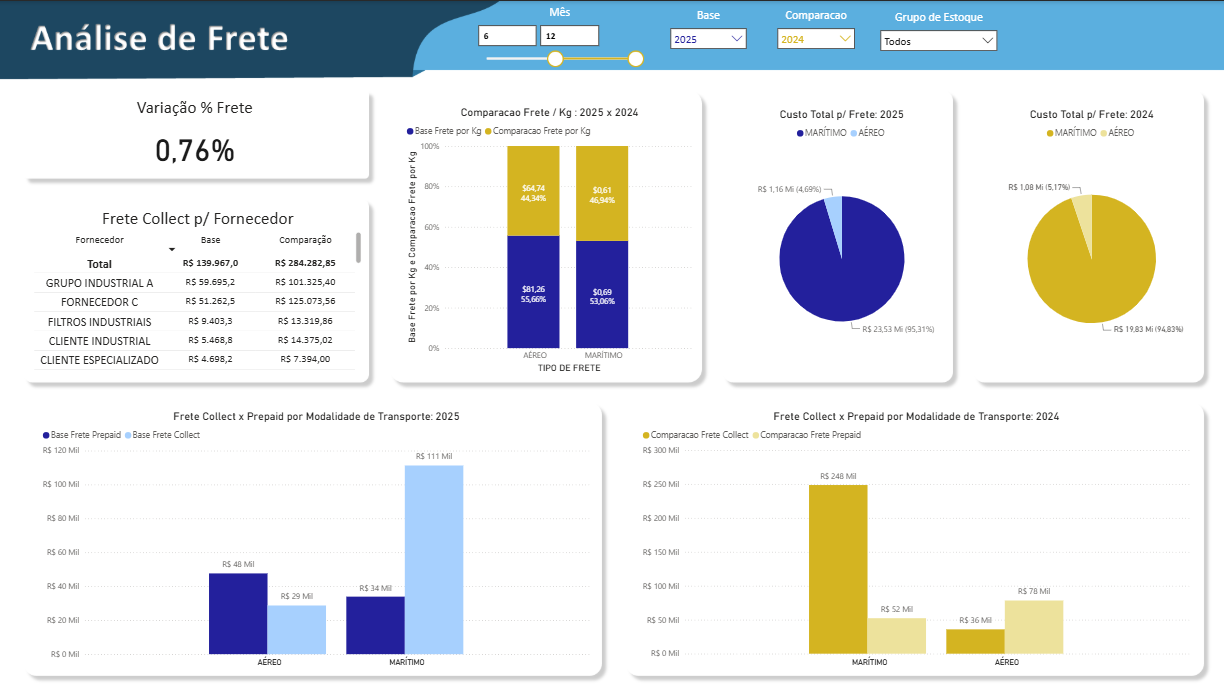

This screenshot's page, from the dashboard's own definition file:
{"tool":"powerbi","page":{"name":"Analise de Frete","canvas":[1900,1080],"ordinal":1},"visuals":[{"type":"pieChart","fields":{"Category":["DADOS IMPORTAÇÃO.TIPO DE FRETE"],"Y":["Medidas.Comparação Custo Total"]},"box":[1140,165.7,331.4,420],"z":0},{"type":"pieChart","fields":{"Category":["DADOS IMPORTAÇÃO.TIPO DE FRETE"],"Y":["Medidas.Custo Total Base"]},"box":[1524.3,165.7,337.1,420],"z":2000},{"type":"hundredPercentStackedColumnChart","fields":{"Category":["DADOS IMPORTAÇÃO.TIPO DE FRETE"],"Y":["Medidas.Base Frete por Kg","Medidas.Comparacao Frete por Kg"]},"box":[625.7,162.9,454.3,418.6],"z":4000},{"type":"clusteredColumnChart","fields":{"Category":["DADOS IMPORTAÇÃO.TIPO DE FRETE"],"Y":["Medidas.Comparacao Frete Collect","Medidas.Comparacao Frete Prepaid"]},"box":[991.4,634.3,860,405],"z":6000},{"type":"clusteredColumnChart","fields":{"Category":["DADOS IMPORTAÇÃO.TIPO DE FRETE"],"Y":["Medidas.Base Frete Prepaid","Medidas.Base Frete Collect"]},"box":[61.4,634.3,860,405.7],"z":7000},{"type":"pivotTable","title":"Frete Collect p/ Fornecedor","fields":{"Rows":["DADOS IMPORTAÇÃO.DESCRIÇÃO ABREVIADA"],"Values":["Medidas.Base Frete Collect","Medidas.Comparacao Frete Collect"]},"box":[50,321.4,517.1,258.6],"z":8000},{"type":"card","title":"Variação % Frete","fields":{"Values":["Medidas.Variação % Frete"]},"box":[45.7,148.6,517.1,120],"z":9000},{"type":"slicer","title":"Comparacao","fields":{"Values":["fAno_Base.Ano"]},"box":[1196,10,140,78.9],"z":9001},{"type":"slicer","title":"Grupo de Estoque","fields":{"Values":["DADOS IMPORTAÇÃO.GE DESCRIÇÃO","DADOS IMPORTAÇÃO.CÓD. DI"]},"box":[1356,12,201.2,76.2],"z":9002},{"type":"slicer","title":"Base","fields":{"Values":["fAno_Comparacao.Ano"]},"box":[1030,10,137.8,78.9],"z":9003},{"type":"slicer","title":"Mês","fields":{"Values":["Calendario.Mes Nº"]},"box":[730,4,278,110],"z":9004}]}

Visuals, with their boxes in screenshot pixels (x1, y1, x2, y2), scaled from the page's 1900x1080 canvas onto the 1224x698 screenshot:
pieChart - DADOS IMPORTAÇÃO.TIPO DE FRETE x Medidas.Comparação Custo Total: 734, 107, 948, 379
pieChart - DADOS IMPORTAÇÃO.TIPO DE FRETE x Medidas.Custo Total Base: 982, 107, 1199, 379
hundredPercentStackedColumnChart - DADOS IMPORTAÇÃO.TIPO DE FRETE x Medidas.Base Frete por Kg: 403, 105, 696, 376
clusteredColumnChart - DADOS IMPORTAÇÃO.TIPO DE FRETE x Medidas.Comparacao Frete Collect: 639, 410, 1193, 672
clusteredColumnChart - DADOS IMPORTAÇÃO.TIPO DE FRETE x Medidas.Base Frete Prepaid: 40, 410, 594, 672
"Frete Collect p/ Fornecedor" pivotTable: 32, 208, 365, 375
"Variação % Frete" card: 29, 96, 363, 174
"Comparacao" slicer: 770, 6, 861, 57
"Grupo de Estoque" slicer: 874, 8, 1003, 57
"Base" slicer: 664, 6, 752, 57
"Mês" slicer: 470, 3, 649, 74
